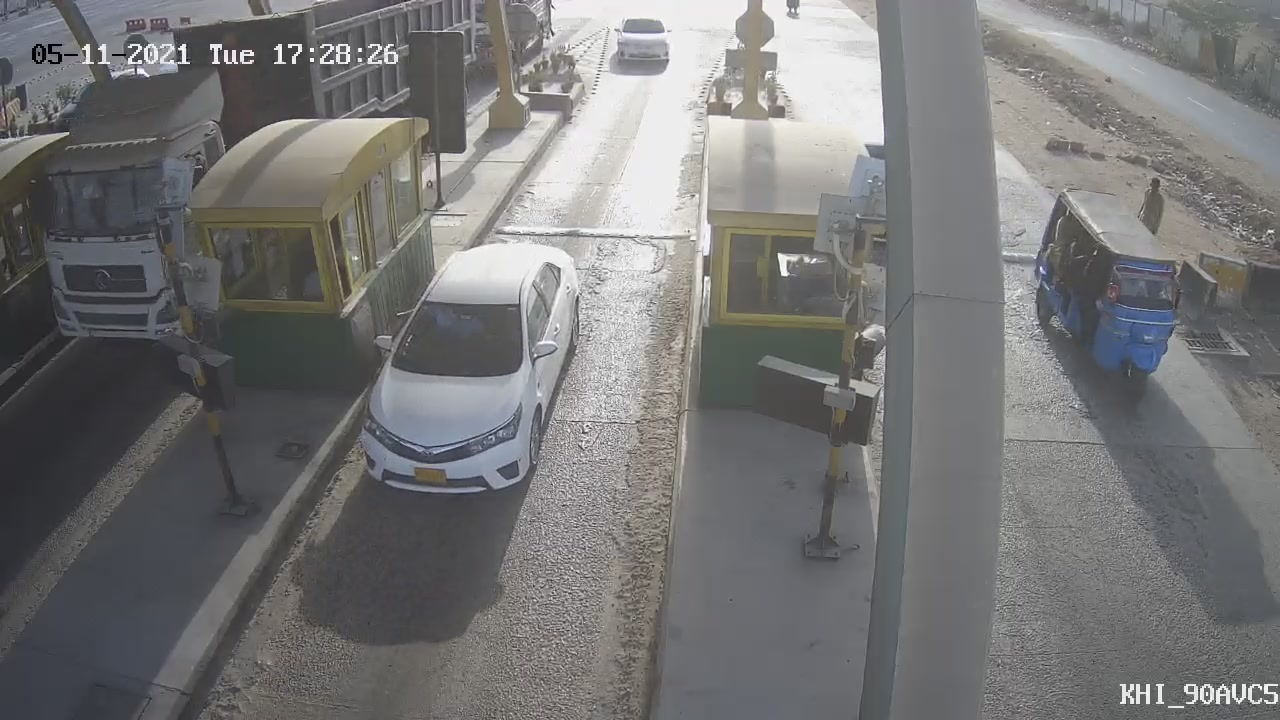F1: (330, 219, 607, 517)
